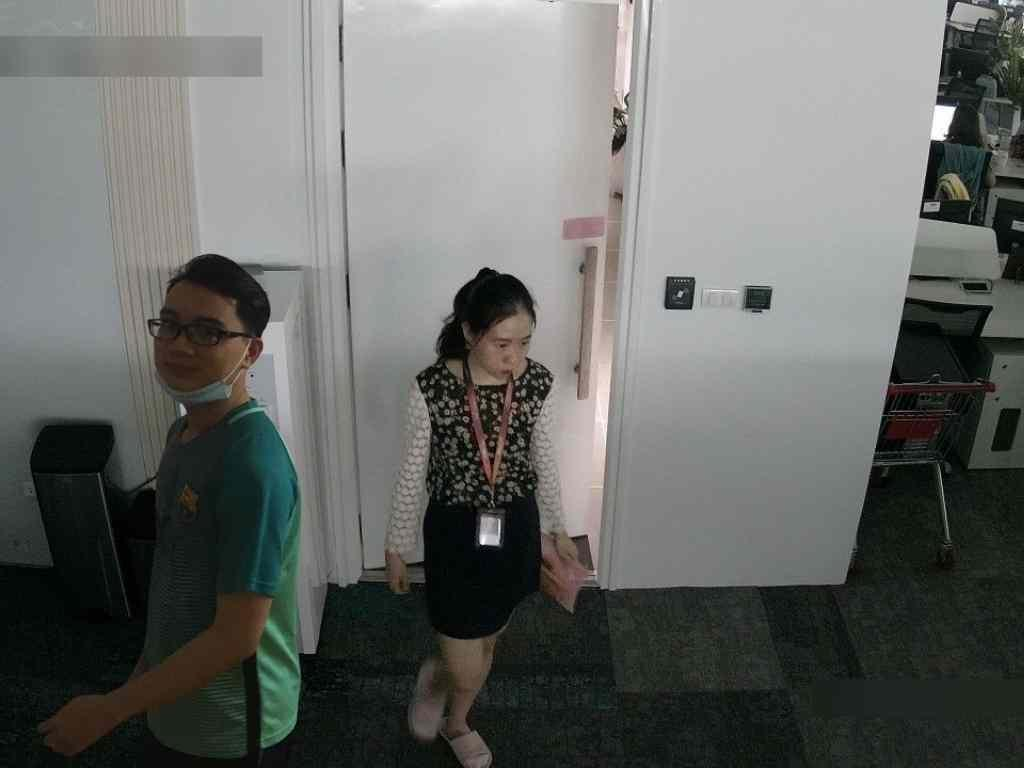no_apron: (28, 686, 146, 762), (378, 530, 430, 602)
no_gloves: (144, 240, 284, 360), (421, 246, 544, 363)
no_hairnet: (142, 332, 238, 406), (467, 302, 538, 381)
